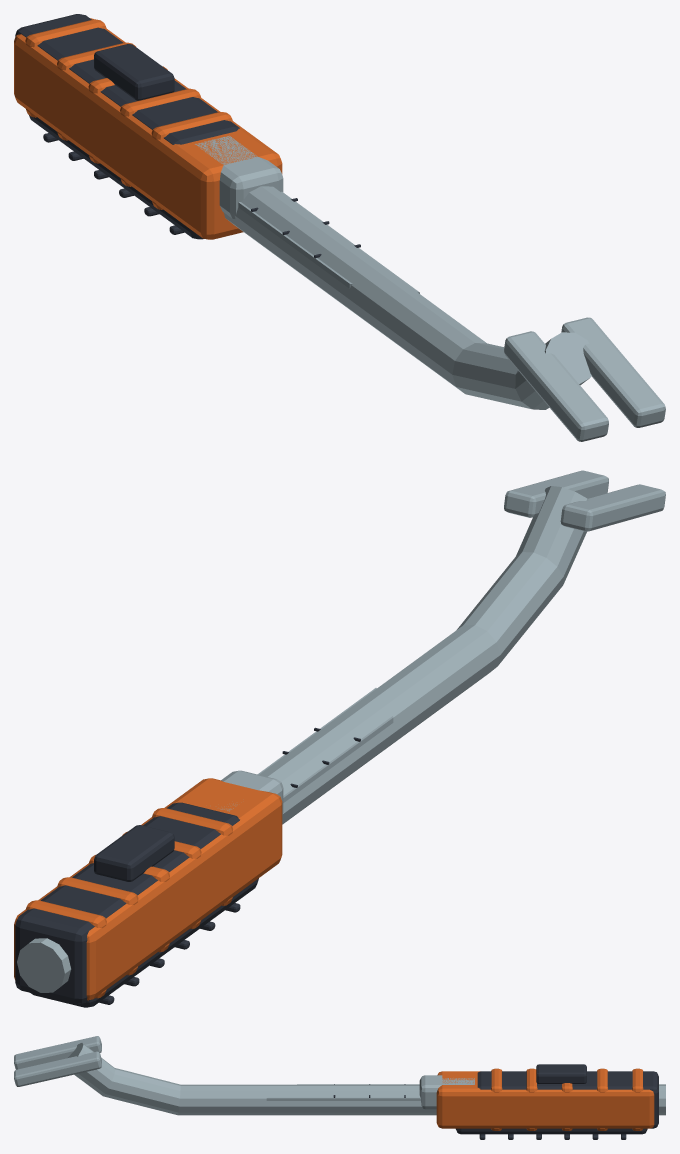
Rendered from BrunoTools.glb.
3 views of the same model, one above another, from view 1: azimuth 30°, elevation 25°; view 2: azimuth 150°, elevation 25°; view 3: azimuth 270°, elevation 25° (orthographic). The views are drawn at different scales.
Parts seen in each view (by area): view 1: BrunoPryBar_Mesh, BrunoBoxCutter_Mesh; view 2: BrunoPryBar_Mesh, BrunoBoxCutter_Mesh; view 3: BrunoPryBar_Mesh, BrunoBoxCutter_Mesh.
Boxes of the visible parts, x1=… form: BrunoPryBar_Mesh: x1=15, y1=14, x2=665, y2=441; BrunoBoxCutter_Mesh: x1=14, y1=18, x2=419, y2=293; BrunoPryBar_Mesh: x1=15, y1=470, x2=665, y2=1003; BrunoBoxCutter_Mesh: x1=14, y1=688, x2=393, y2=1007; BrunoPryBar_Mesh: x1=14, y1=1036, x2=665, y2=1130; BrunoBoxCutter_Mesh: x1=266, y1=1064, x2=654, y2=1139.
Bounding box in the file's own units: 0.04 × 0.0679 × 0.4622.
